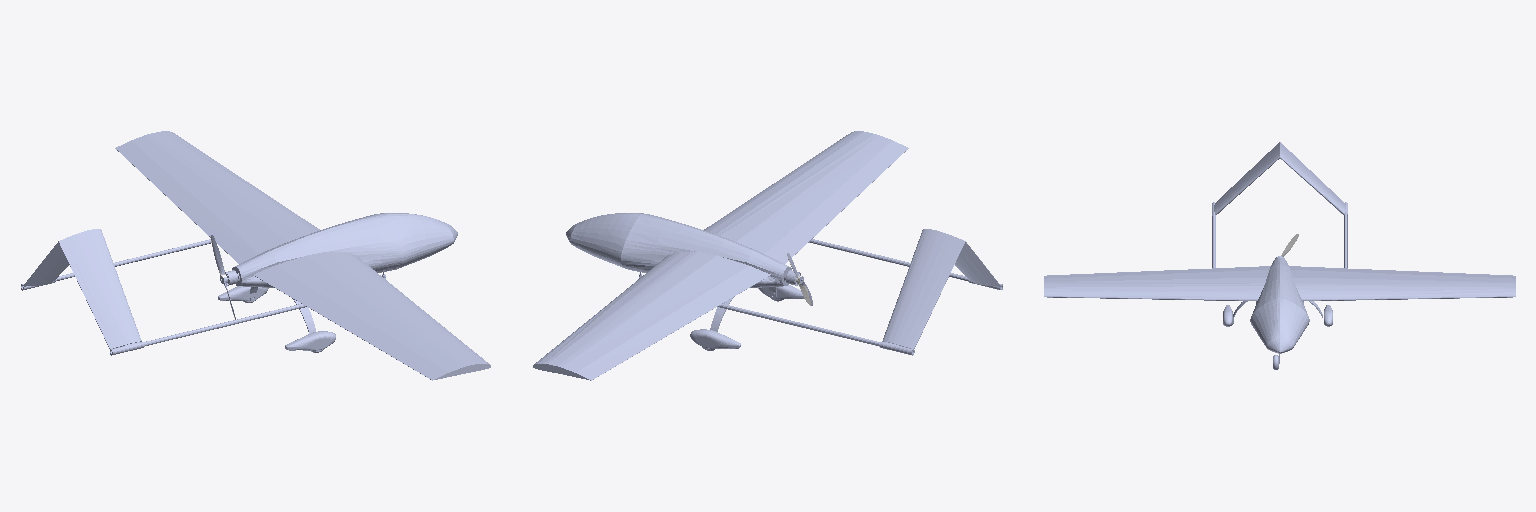
URDF robot description (İHA SON TUTUCULU boyalı olan URDF propeller):
<?xml version="1.0" encoding="utf-8"?>
<!-- This URDF was automatically created by SolidWorks to URDF Exporter! Originally created by Stephen Brawner (brawner@gmail.com) 
     Commit Version: 1.6.0-4-g7f85cfe  Build Version: 1.6.7995.38578
     For more information, please see http://wiki.ros.org/sw_urdf_exporter -->
<robot
  name="İHA SON TUTUCULU boyalı olan URDF propeller">
  <link
    name="base_link">
    <inertial>
      <origin
        xyz="0.0661497010868649 1.12875126025869 1.54523749368694"
        rpy="0 0 0" />
      <mass
        value="4.23480472025957" />
      <inertia
        ixx="0.220492590446684"
        ixy="0.000432552535339524"
        ixz="2.98602402281192E-06"
        iyy="0.227596468011844"
        iyz="0.000117008023487875"
        izz="0.0432566939190616" />
    </inertial>
    <visual>
      <origin
        xyz="0 0 0"
        rpy="0 0 0" />
      <geometry>
        <mesh
          filename="package://İHA SON TUTUCULU boyalı olan URDF propeller/meshes/base_link.STL" />
      </geometry>
      <material
        name="">
        <color
          rgba="0.792156862745098 0.819607843137255 0.933333333333333 1" />
      </material>
    </visual>
    <collision>
      <origin
        xyz="0 0 0"
        rpy="0 0 0" />
      <geometry>
        <mesh
          filename="package://İHA SON TUTUCULU boyalı olan URDF propeller/meshes/base_link.STL" />
      </geometry>
    </collision>
  </link>
  <link
    name="Propeller">
    <inertial>
      <origin
        xyz="-0.0091536 7.9988E-05 -7.0282E-05"
        rpy="0 0 0" />
      <mass
        value="0.056073" />
      <inertia
        ixx="0.00024869"
        ixy="1.6845E-09"
        ixz="-1.5671E-09"
        iyy="7.8664E-05"
        iyz="0.000113"
        izz="0.00017127" />
    </inertial>
    <visual>
      <origin
        xyz="0 0 0"
        rpy="0 0 0" />
      <geometry>
        <mesh
          filename="package://İHA SON TUTUCULU boyalı olan URDF propeller/meshes/Propeller.STL" />
      </geometry>
      <material
        name="">
        <color
          rgba="1 1 1 1" />
      </material>
    </visual>
    <collision>
      <origin
        xyz="0 0 0"
        rpy="0 0 0" />
      <geometry>
        <mesh
          filename="package://İHA SON TUTUCULU boyalı olan URDF propeller/meshes/Propeller.STL" />
      </geometry>
    </collision>
  </link>
  <joint
    name="propeller_joint"
    type="continuous">
    <origin
      xyz="0.28232 -1.543 1.0849"
      rpy="1.5708 0 0" />
    <parent
      link="base_link" />
    <child
      link="Propeller" />
    <axis
      xyz="-0.99942 0.032581 -0.0095895" />
  </joint>
</robot>

--- What the picture shows (computed from the rendered views, not written in the file) ---
The picture shows the robot from 3 angles, left to right: view 1: azimuth 30°, elevation 25°; view 2: azimuth 150°, elevation 25°; view 3: azimuth 270°, elevation 25°; orthographic projection.
Model İHA SON TUTUCULU boyalı olan URDF propeller with 2 links and 1 joints (1 continuous), rooted at base_link, posed all joints at 0.
Links seen in each view (by area): view 1: base_link; view 2: base_link; view 3: base_link.
Boxes of the visible links, x1,y1,x2,y2 form: base_link: (21, 131, 490, 380); base_link: (533, 131, 1002, 380); base_link: (1044, 142, 1515, 369).
Bounding box of the posed robot: 1.65 × 2.27 × 0.6031 m (x, y, z).
Meshes: 2 distinct files referenced, 2 mesh visuals loaded (2 binary STL).
